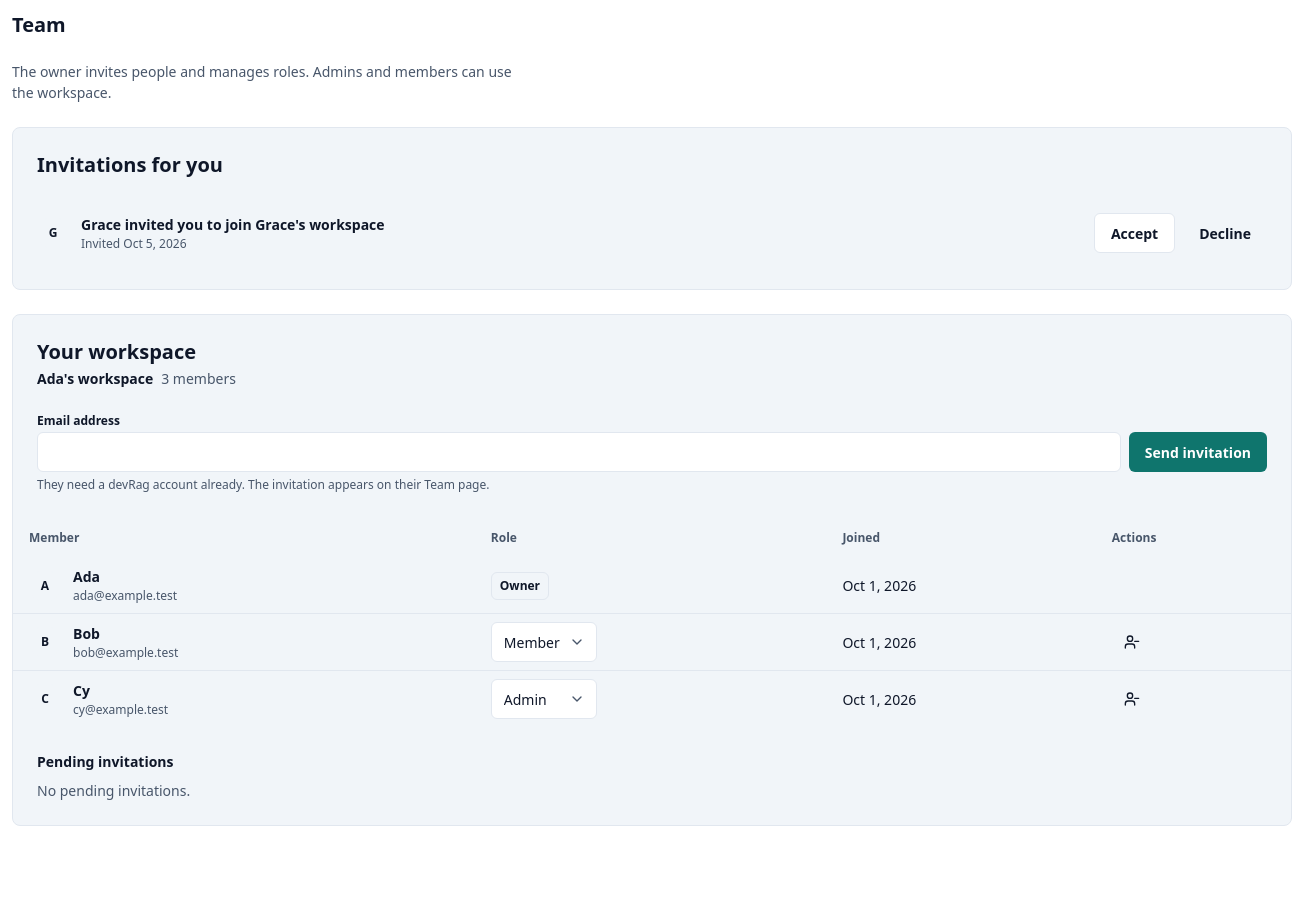
Test: invitations for you › accepts with a PATCH for the listed tenant, toasts, and moves the workspace to the joined card
Click the button with aria-label "Accept invitation from Grace".
click(1135, 233)  # box [1094,213,1175,253]
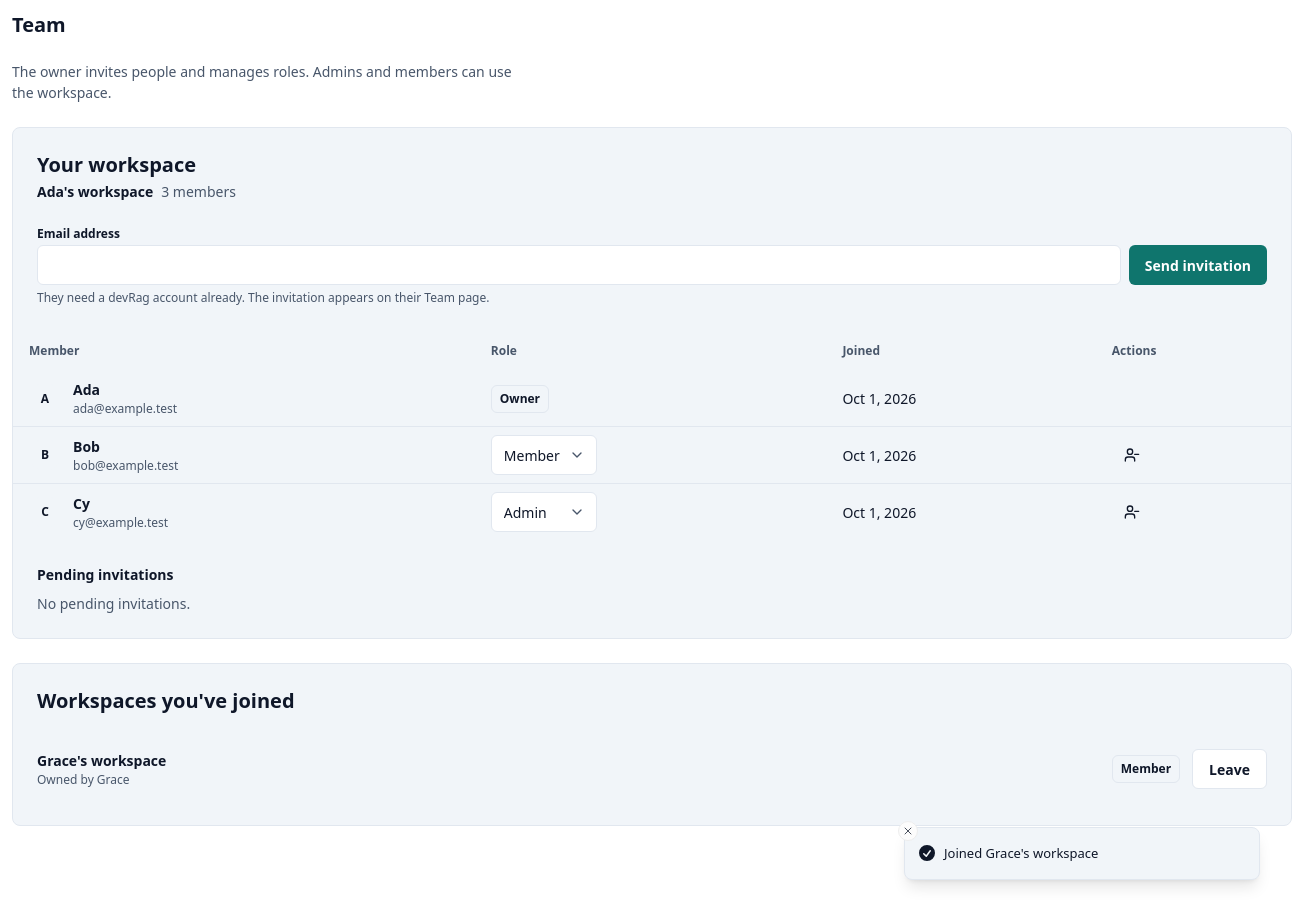
Expected: the text "Joined Grace's workspace" is shown, [944,844,1098,863]
Expected: the element with test id "invitations-for-you" is gone
Expected: the text "Grace's workspace" is shown, [37,750,166,770]
